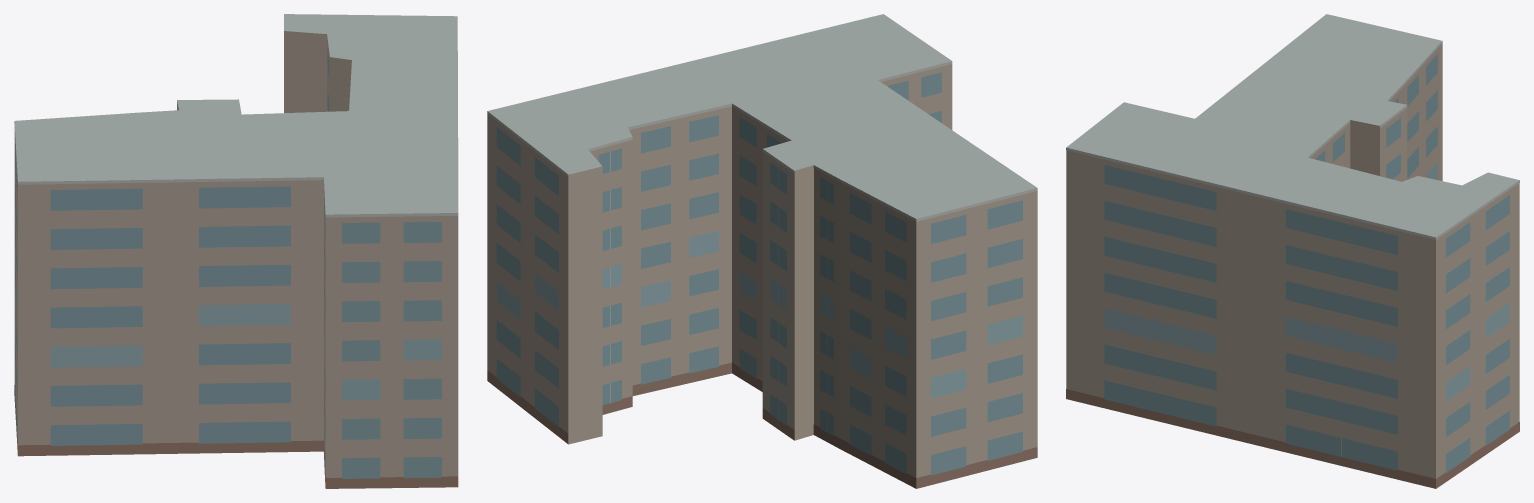
File: survey-upis-32876830.glb
The picture shows the model from 3 angles, left to right: view 1: azimuth 30°, elevation 25°; view 2: azimuth 150°, elevation 25°; view 3: azimuth 270°, elevation 25°; orthographic projection. The views are drawn at different scales.
Visible parts, largest first — view 1: survey-upis-32876830.tmp; view 2: survey-upis-32876830.tmp; view 3: survey-upis-32876830.tmp.
Boxes of the visible parts, <box> form: survey-upis-32876830.tmp: <box>14,14,458,488</box>; survey-upis-32876830.tmp: <box>487,14,1037,488</box>; survey-upis-32876830.tmp: <box>1066,14,1519,488</box>.
Bounding box in the file's own units: 44.24 × 23.21 × 37.95.
